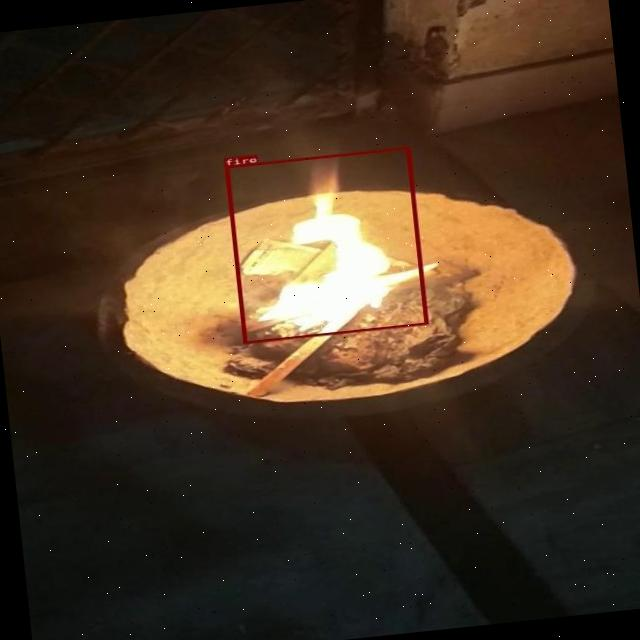fire: (224, 146, 427, 343)
